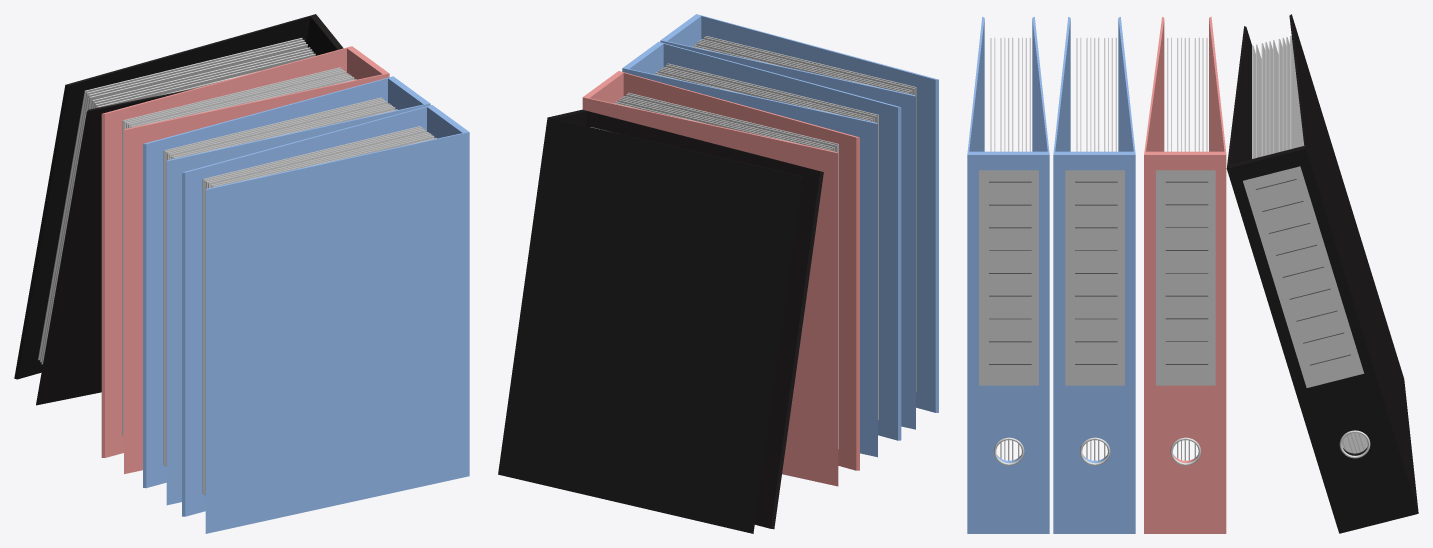
Rendered from classeurs 2.fbx.
3 renders of one model, left to right at view 1: azimuth 30°, elevation 25°; view 2: azimuth 150°, elevation 25°; view 3: azimuth 270°, elevation 25°, orthographic. The views are drawn at different scales.
Parts seen in each view (by area): view 1: Plane.024, Plane.016, Plane.015, Plane, Plane.018, Plane.019, Plane.026, Plane.002, Plane.013, Plane.021, Plane.020, Plane.003 (+7 smaller); view 2: Plane.016, Plane.015, Plane, Plane.024, Plane.006, Plane.009, Plane.030, Plane.029, Plane.005, Plane.010, Plane.011, Plane.028 (+1 smaller); view 3: Plane.016, Plane.015, Plane, Plane.024, Plane.017, Plane.001, Plane.014, Plane.025, Plane.018, Plane.020, Plane.022, Plane.021 (+10 smaller).
Part boxes in pixels (<box>): Plane.024: <box>182,105,469,533</box>; Plane.016: <box>14,14,343,405</box>; Plane.015: <box>101,46,389,474</box>; Plane: <box>143,76,430,505</box>; Plane.018: <box>38,38,304,362</box>; Plane.019: <box>41,42,307,364</box>; Plane.026: <box>202,126,422,495</box>; Plane.002: <box>163,97,383,466</box>; Plane.013: <box>122,67,342,435</box>; Plane.021: <box>95,51,315,108</box>; Plane.020: <box>91,47,312,108</box>; Plane.003: <box>167,100,387,160</box>; Plane.016: <box>498,109,823,533</box>; Plane.015: <box>582,71,859,486</box>; Plane: <box>622,41,901,457</box>; Plane.024: <box>660,14,938,429</box>; Plane.006: <box>666,63,878,419</box>; Plane.009: <box>626,92,838,449</box>; Plane.030: <box>704,36,916,392</box>; Plane.029: <box>699,39,912,94</box>; Plane.005: <box>661,67,874,122</box>; Plane.010: <box>622,96,834,151</box>; Plane.011: <box>618,98,831,150</box>; Plane.028: <box>696,41,908,93</box>; Plane.016: <box>1226,14,1418,533</box>; Plane.015: <box>1144,16,1226,533</box>; Plane: <box>1053,17,1135,533</box>; Plane.024: <box>967,17,1049,533</box>; Plane.017: <box>1243,166,1364,387</box>; Plane.001: <box>1065,170,1124,385</box>; Plane.014: <box>1156,170,1215,385</box>; Plane.025: <box>979,170,1038,385</box>; Plane.018: <box>1286,36,1304,150</box>; Plane.020: <box>1269,40,1367,452</box>; Plane.022: <box>1252,44,1351,452</box>; Plane.021: <box>1261,42,1359,453</box>.
Size of the model in its own units: 39.24 by 50.77 by 53.91.
